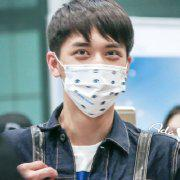OK: (57, 41, 135, 119)
